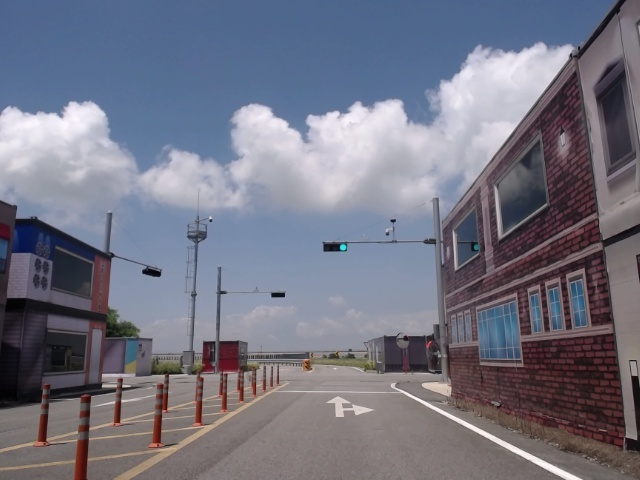green_3: (324, 243, 347, 252)
